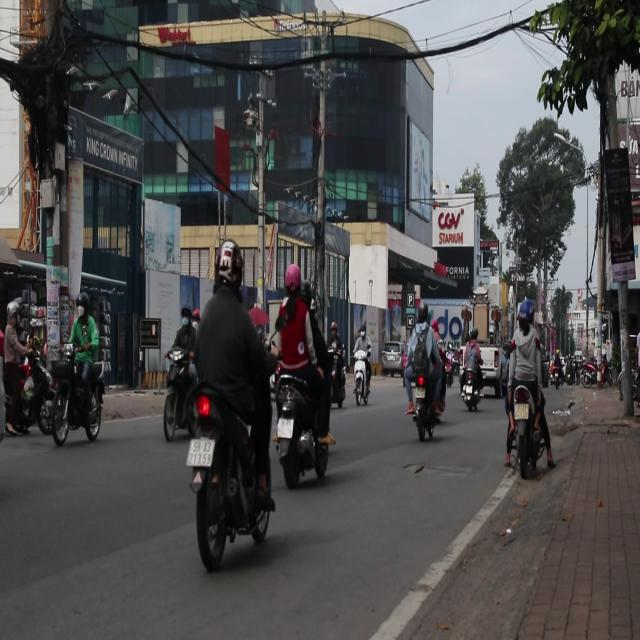car: (382, 343, 406, 378)
motorbike: (183, 393, 275, 568), (272, 374, 331, 491), (44, 348, 108, 446), (503, 388, 558, 482), (162, 348, 200, 438), (404, 360, 441, 439), (354, 352, 372, 410), (463, 364, 481, 414)
